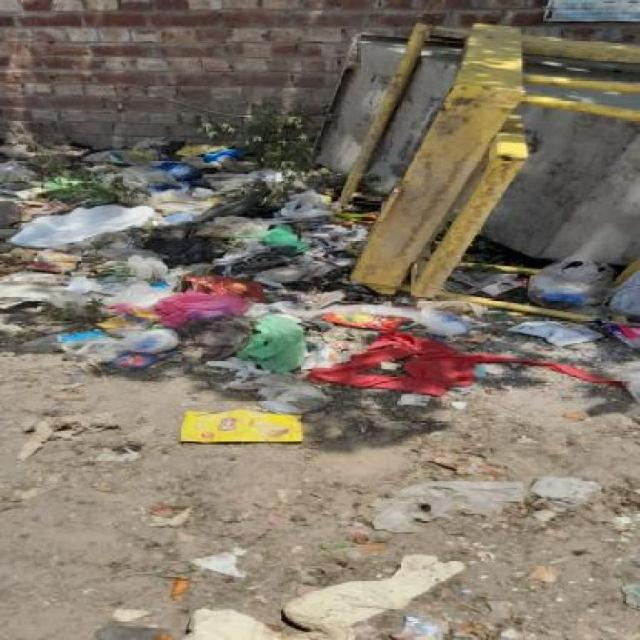garbage: (6, 121, 639, 640)
